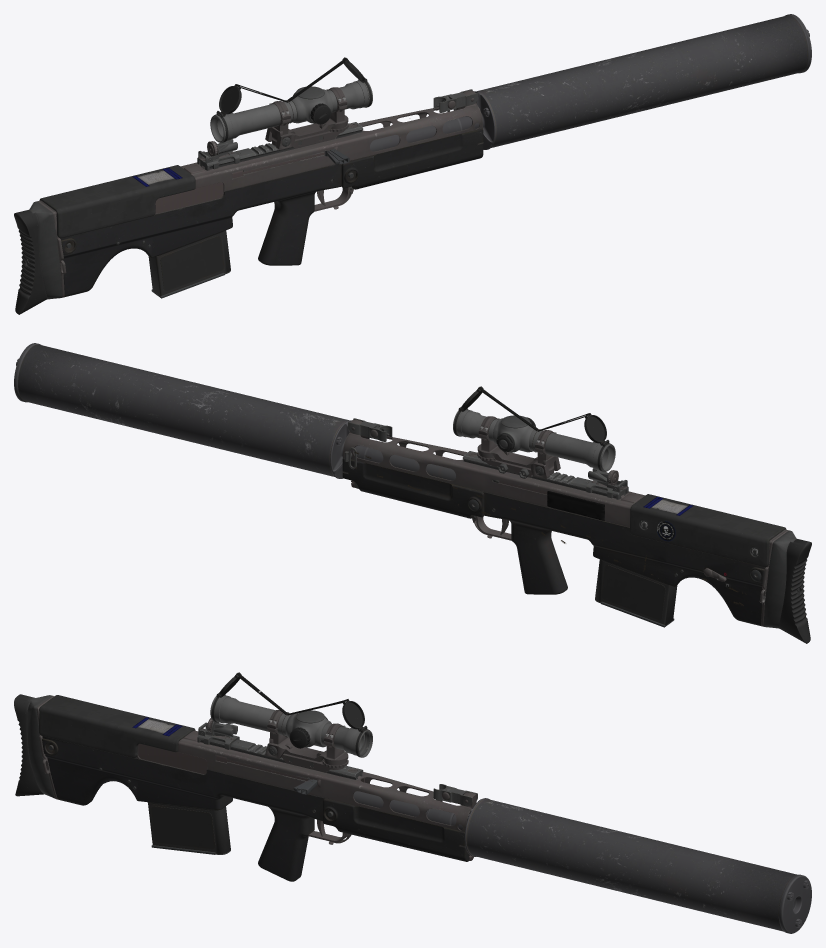
File: vssk.832ac4dda9.glb
3 views of the same model, one above another, from view 1: azimuth 30°, elevation 25°; view 2: azimuth 150°, elevation 25°; view 3: azimuth 330°, elevation 25° (orthographic).
Parts seen in each view (by area): view 1: base_2, base, base_5, base_7, scope_2, mag, base_4, base_6; view 2: base_2, base, base_5, base_7, scope_2, mag, base_3, base_6; view 3: base_2, base, base_5, base_7, scope_2, mag, base_4, base_6.
Boxes of the visible parts, box(x1,y1,x2,y2) form: base_2: box(321, 14, 811, 167); base: box(60, 128, 483, 297); base_5: box(14, 165, 352, 314); base_7: box(39, 90, 483, 220); scope_2: box(210, 57, 372, 149); mag: box(148, 230, 230, 298); base_4: box(155, 149, 353, 213); base_6: box(201, 89, 477, 159); base_2: box(14, 343, 504, 496); base: box(342, 457, 765, 626); base_5: box(473, 494, 811, 643); base_7: box(342, 419, 786, 549); scope_2: box(453, 386, 615, 478); mag: box(595, 559, 677, 627); base_3: box(354, 451, 746, 605); base_6: box(348, 418, 624, 488); base_2: box(314, 791, 811, 933); base: box(42, 736, 469, 881); base_5: box(14, 694, 346, 842); base_7: box(39, 707, 476, 847); scope_2: box(210, 672, 372, 772); mag: box(148, 802, 230, 854); base_4: box(138, 744, 473, 860); base_6: box(202, 718, 477, 806).
Size of the model in its own units: 1.12 by 0.262 by 0.0903.
Materials: 9 (8 with a texture image).
